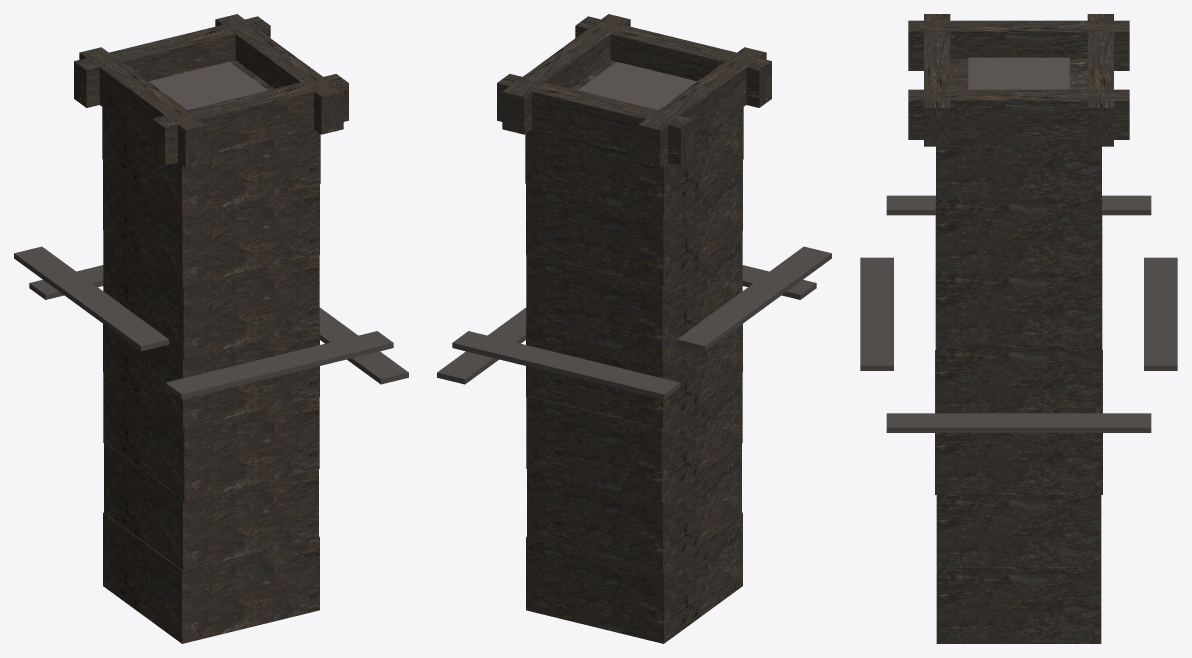
Rendered from blacksmith_chimney_candidate_texture_optimized.glb.
The picture shows the model from 3 angles, left to right: view 1: azimuth 30°, elevation 25°; view 2: azimuth 150°, elevation 25°; view 3: azimuth 270°, elevation 25°; orthographic projection. The views are drawn at different scales.
Visible parts, largest first — view 1: ASSET_ROOF_FlueStoneCourse_00, ASSET_ROOF_FlueStoneCourse_02, ASSET_ROOF_FlueStoneCourse_05, ASSET_ROOF_FlueStoneCourse_04, ASSET_ROOF_FlueStoneCourse_01, ASSET_ROOF_FlueStoneCourse_06, ASSET_ROOF_FlueStoneCourse_03, ASSET_ROOF_FlueLippedCap_2, ASSET_ROOF_FlueLippedCap_3, ASSET_ROOF_FlueLippedCap_0, ASSET_ROOF_FlueLippedCap_1, ASSET_ROOF_BlacksmithFlueFlashing_2 (+4 smaller); view 2: ASSET_ROOF_FlueStoneCourse_00, ASSET_ROOF_FlueStoneCourse_02, ASSET_ROOF_FlueStoneCourse_05, ASSET_ROOF_FlueStoneCourse_04, ASSET_ROOF_FlueStoneCourse_01, ASSET_ROOF_FlueStoneCourse_06, ASSET_ROOF_FlueStoneCourse_03, ASSET_ROOF_FlueLippedCap_3, ASSET_ROOF_FlueLippedCap_2, ASSET_ROOF_FlueLippedCap_0, ASSET_ROOF_FlueLippedCap_1, ASSET_ROOF_BlacksmithFlueFlashing_3 (+4 smaller); view 3: ASSET_ROOF_FlueStoneCourse_00, ASSET_ROOF_FlueStoneCourse_05, ASSET_ROOF_FlueStoneCourse_01, ASSET_ROOF_FlueStoneCourse_04, ASSET_ROOF_FlueStoneCourse_03, ASSET_ROOF_FlueStoneCourse_06, ASSET_ROOF_FlueStoneCourse_02, ASSET_ROOF_FlueLippedCap_1, ASSET_ROOF_FlueLippedCap_0, ASSET_ROOF_BlacksmithFlueFlashing_1, ASSET_ROOF_BlacksmithFlueFlashing_2, ASSET_ROOF_BlacksmithFlueFlashing_3 (+4 smaller).
Part boxes in pixels (<box>): ASSET_ROOF_FlueStoneCourse_00: <box>103,512,319,643</box>; ASSET_ROOF_FlueStoneCourse_02: <box>103,372,319,501</box>; ASSET_ROOF_FlueStoneCourse_05: <box>103,160,319,288</box>; ASSET_ROOF_FlueStoneCourse_04: <box>103,231,319,359</box>; ASSET_ROOF_FlueStoneCourse_01: <box>104,441,318,570</box>; ASSET_ROOF_FlueStoneCourse_06: <box>102,60,320,217</box>; ASSET_ROOF_FlueStoneCourse_03: <box>103,324,319,430</box>; ASSET_ROOF_FlueLippedCap_2: <box>152,74,348,165</box>; ASSET_ROOF_FlueLippedCap_3: <box>74,16,270,107</box>; ASSET_ROOF_FlueLippedCap_0: <box>79,47,207,167</box>; ASSET_ROOF_FlueLippedCap_1: <box>215,14,343,134</box>; ASSET_ROOF_BlacksmithFlueFlashing_2: <box>165,331,393,399</box>; ASSET_ROOF_FlueStoneCourse_00: <box>526,512,742,643</box>; ASSET_ROOF_FlueStoneCourse_02: <box>526,372,742,501</box>; ASSET_ROOF_FlueStoneCourse_05: <box>526,160,742,288</box>; ASSET_ROOF_FlueStoneCourse_04: <box>526,231,742,359</box>; ASSET_ROOF_FlueStoneCourse_01: <box>527,441,741,570</box>; ASSET_ROOF_FlueStoneCourse_06: <box>525,60,743,217</box>; ASSET_ROOF_FlueStoneCourse_03: <box>526,324,742,430</box>; ASSET_ROOF_FlueLippedCap_3: <box>497,74,693,165</box>; ASSET_ROOF_FlueLippedCap_2: <box>575,16,771,107</box>; ASSET_ROOF_FlueLippedCap_0: <box>638,47,766,167</box>; ASSET_ROOF_FlueLippedCap_1: <box>502,14,630,134</box>; ASSET_ROOF_BlacksmithFlueFlashing_3: <box>452,331,680,399</box>; ASSET_ROOF_FlueStoneCourse_00: <box>936,567,1101,643</box>; ASSET_ROOF_FlueStoneCourse_05: <box>936,199,1101,273</box>; ASSET_ROOF_FlueStoneCourse_01: <box>936,493,1101,567</box>; ASSET_ROOF_FlueStoneCourse_04: <box>935,202,1102,344</box>; ASSET_ROOF_FlueStoneCourse_03: <box>935,345,1102,413</box>; ASSET_ROOF_FlueStoneCourse_06: <box>936,59,1101,199</box>; ASSET_ROOF_FlueStoneCourse_02: <box>935,350,1102,494</box>; ASSET_ROOF_FlueLippedCap_1: <box>908,89,1129,139</box>; ASSET_ROOF_FlueLippedCap_0: <box>908,20,1129,70</box>; ASSET_ROOF_BlacksmithFlueFlashing_1: <box>886,413,1151,432</box>; ASSET_ROOF_BlacksmithFlueFlashing_2: <box>860,257,893,370</box>; ASSET_ROOF_BlacksmithFlueFlashing_3: <box>1144,257,1177,370</box>.
Bounding box in the file's own units: 1.34 × 2.52 × 1.32.
Materials: 4 (2 with a texture image).
